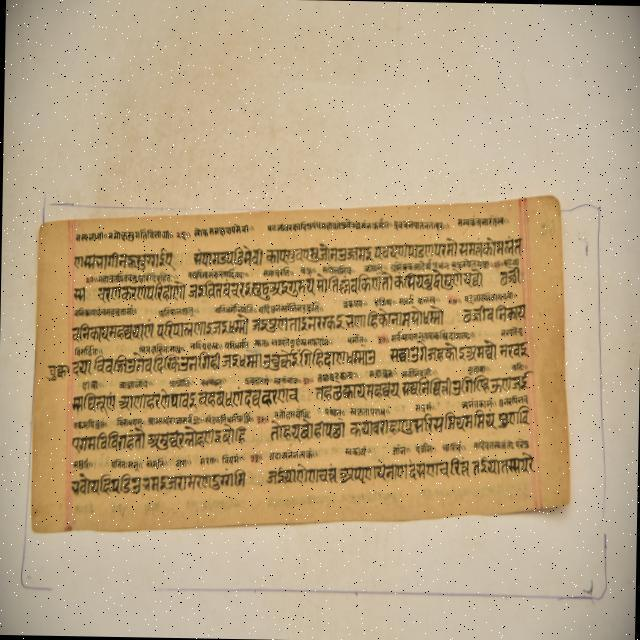text_paragraph: (30, 193, 569, 531)
